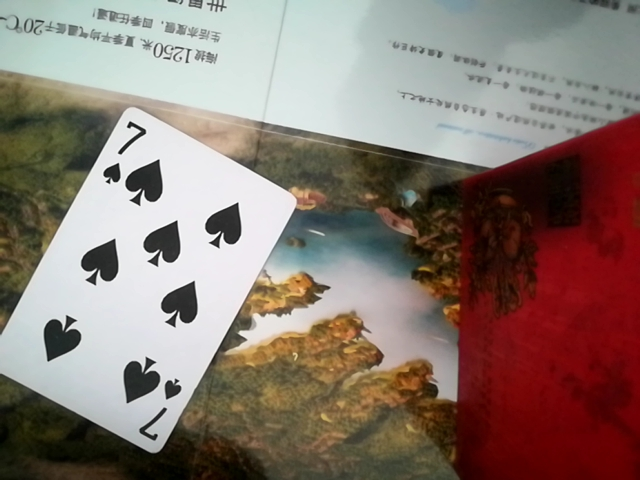ht 7: (1, 100, 300, 457)
